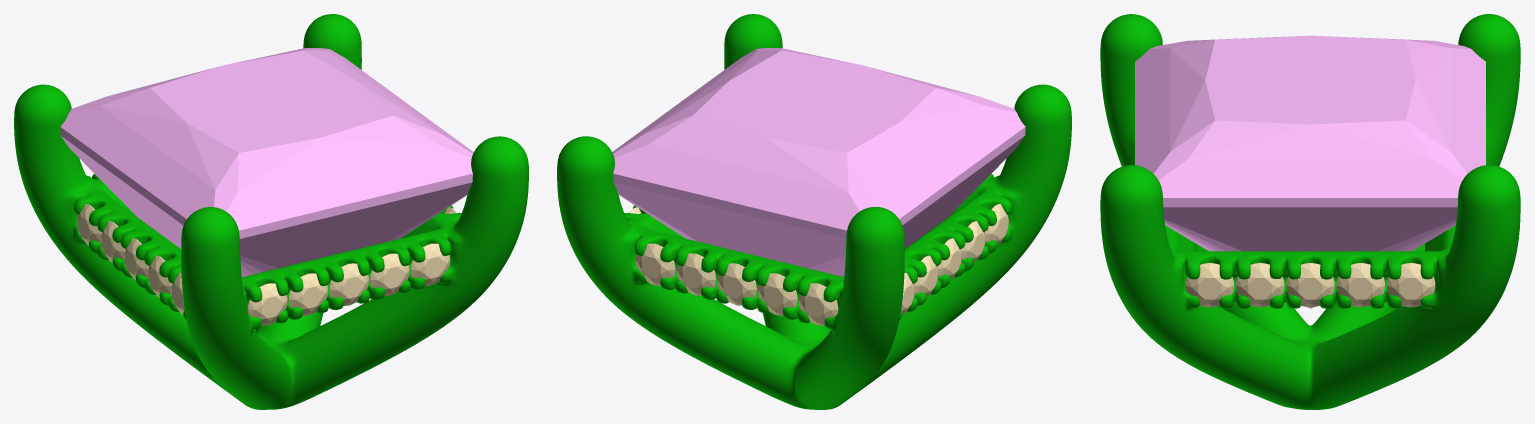
3 renders of one model, left to right at view 1: azimuth 30°, elevation 25°; view 2: azimuth 150°, elevation 25°; view 3: azimuth 270°, elevation 25°, orthographic. The views are drawn at different scales.
Parts seen in each view (by area): view 1: Metal01, Diamond_Princess, Diamond_Round.004, Diamond_Round, Diamond_Round.002, Diamond_Round.003, Diamond_Round.001, Diamond_Round.016, Diamond_Round.018, Diamond_Round.017, Diamond_Round.015; view 2: Metal01, Diamond_Princess, Diamond_Round.005, Diamond_Round.008, Diamond_Round.009, Diamond_Round.007, Diamond_Round.006, Diamond_Round.018, Diamond_Round.016, Diamond_Round.017, Diamond_Round.019; view 3: Diamond_Princess, Metal01, Diamond_Round.011, Diamond_Round.013, Diamond_Round.010, Diamond_Round.014, Diamond_Round.012.
Boxes of the visible parts, x1,y1,x2,y2 form: Metal01: (14,14,528,409); Diamond_Princess: (60,48,473,277); Diamond_Round.004: (410,243,450,285); Diamond_Round: (247,283,287,325); Diamond_Round.002: (329,263,368,305); Diamond_Round.003: (369,253,409,295); Diamond_Round.001: (288,273,328,315); Diamond_Round.016: (100,221,125,263); Diamond_Round.018: (147,255,172,297); Diamond_Round.017: (124,238,148,280); Diamond_Round.015: (77,204,101,245); Metal01: (557,14,1071,409); Diamond_Princess: (612,48,1025,277); Diamond_Round.005: (635,243,675,285); Diamond_Round.008: (757,273,797,315); Diamond_Round.009: (798,283,838,325); Diamond_Round.007: (717,263,756,305); Diamond_Round.006: (676,253,716,295); Diamond_Round.018: (960,221,985,262); Diamond_Round.016: (913,255,938,297); Diamond_Round.017: (937,238,961,279); Diamond_Round.019: (984,204,1008,245); Diamond_Princess: (1135,35,1485,308); Metal01: (1100,14,1520,409); Diamond_Round.011: (1236,263,1284,307); Diamond_Round.013: (1336,263,1384,307); Diamond_Round.010: (1185,263,1234,307); Diamond_Round.014: (1387,263,1435,307); Diamond_Round.012: (1286,263,1334,307).
Bounding box in the file's own units: 9.52 × 7.94 × 9.52.
